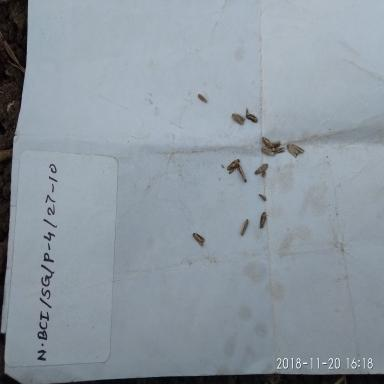pbw: (191, 231, 206, 248), (226, 158, 241, 174), (230, 112, 246, 127), (258, 136, 275, 150), (253, 162, 269, 176), (286, 143, 300, 158), (237, 164, 248, 182), (246, 111, 261, 124), (258, 211, 267, 231), (239, 218, 249, 236), (259, 145, 276, 155), (292, 142, 306, 154), (197, 92, 208, 105), (274, 145, 286, 154), (258, 192, 268, 202), (270, 140, 281, 147)
